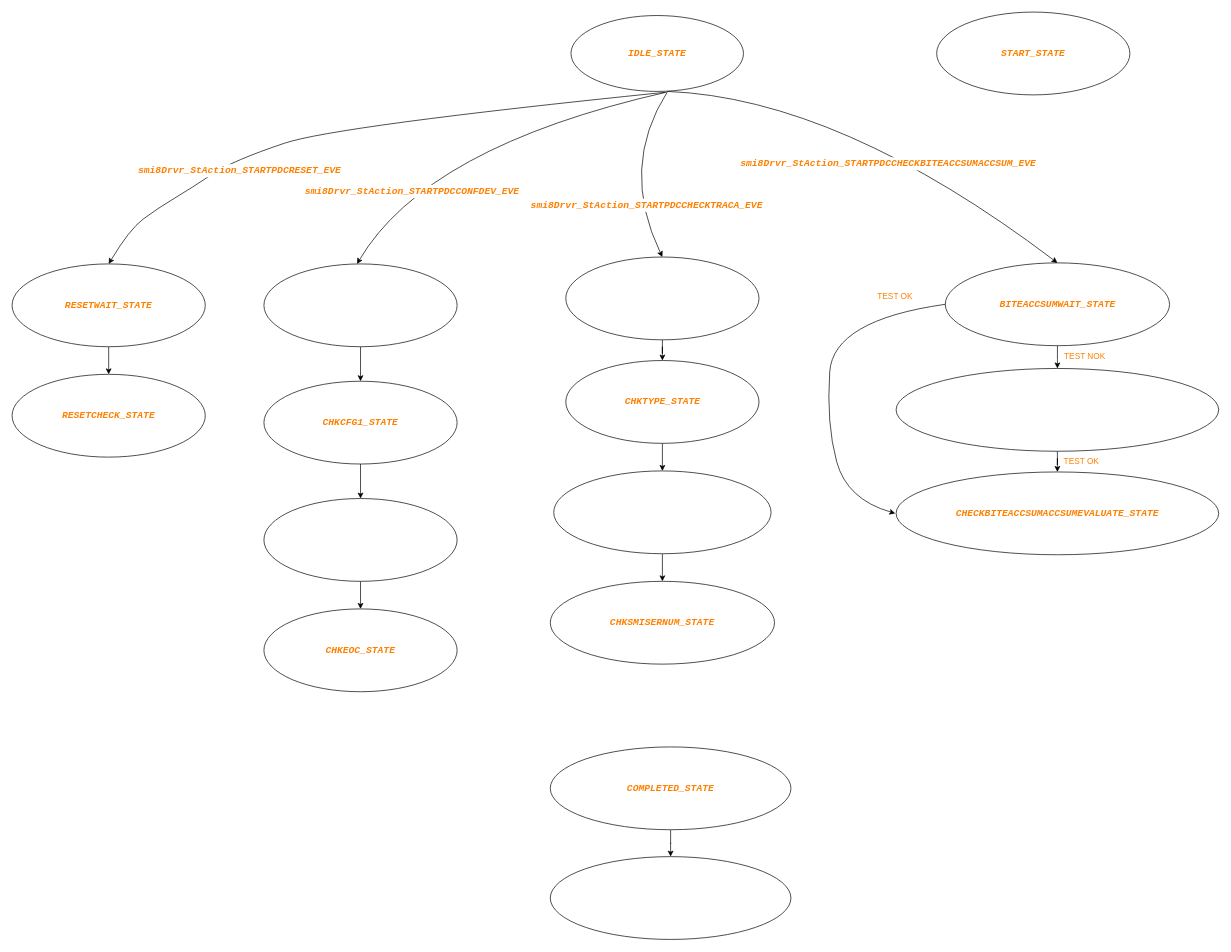
Some shapes in this 1231 by 952 pixel diagram are drawn without their labels. Here are the shapes that lost their labels. From the top down, the centre of each, then its label:
At (360,305): "WRCFG1_STATE".
At (662,298): "CHKCUSNUM_STATE".
At (1057,409): "CHECKBITEACCSUMACCSUMERROR_STATE".
At (662,512): "CHKASICSERNUM_STATE".
At (360,539): "WREOC_STATE".
At (670,897): "ACTIONENDED_STATE".
